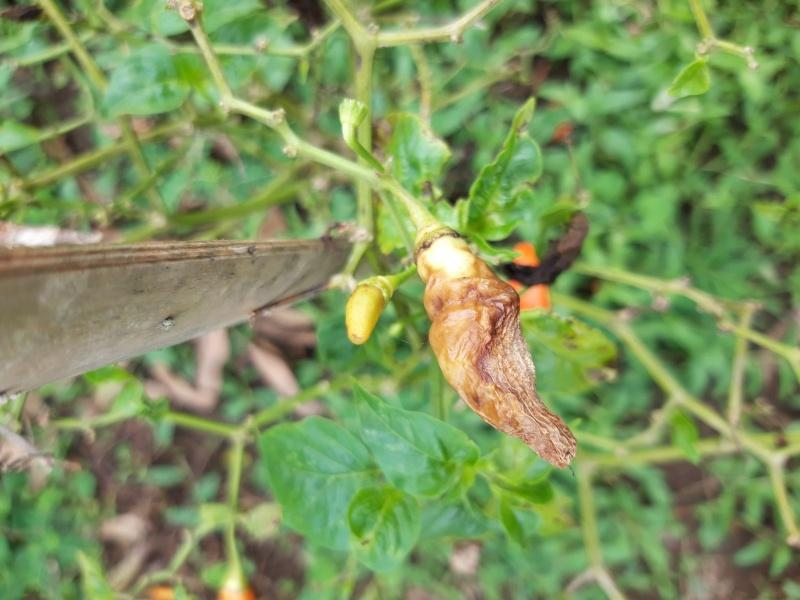antraknosa: (422, 238, 578, 469), (346, 286, 386, 345)
